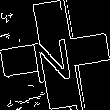N_N: (31, 27, 79, 83)
